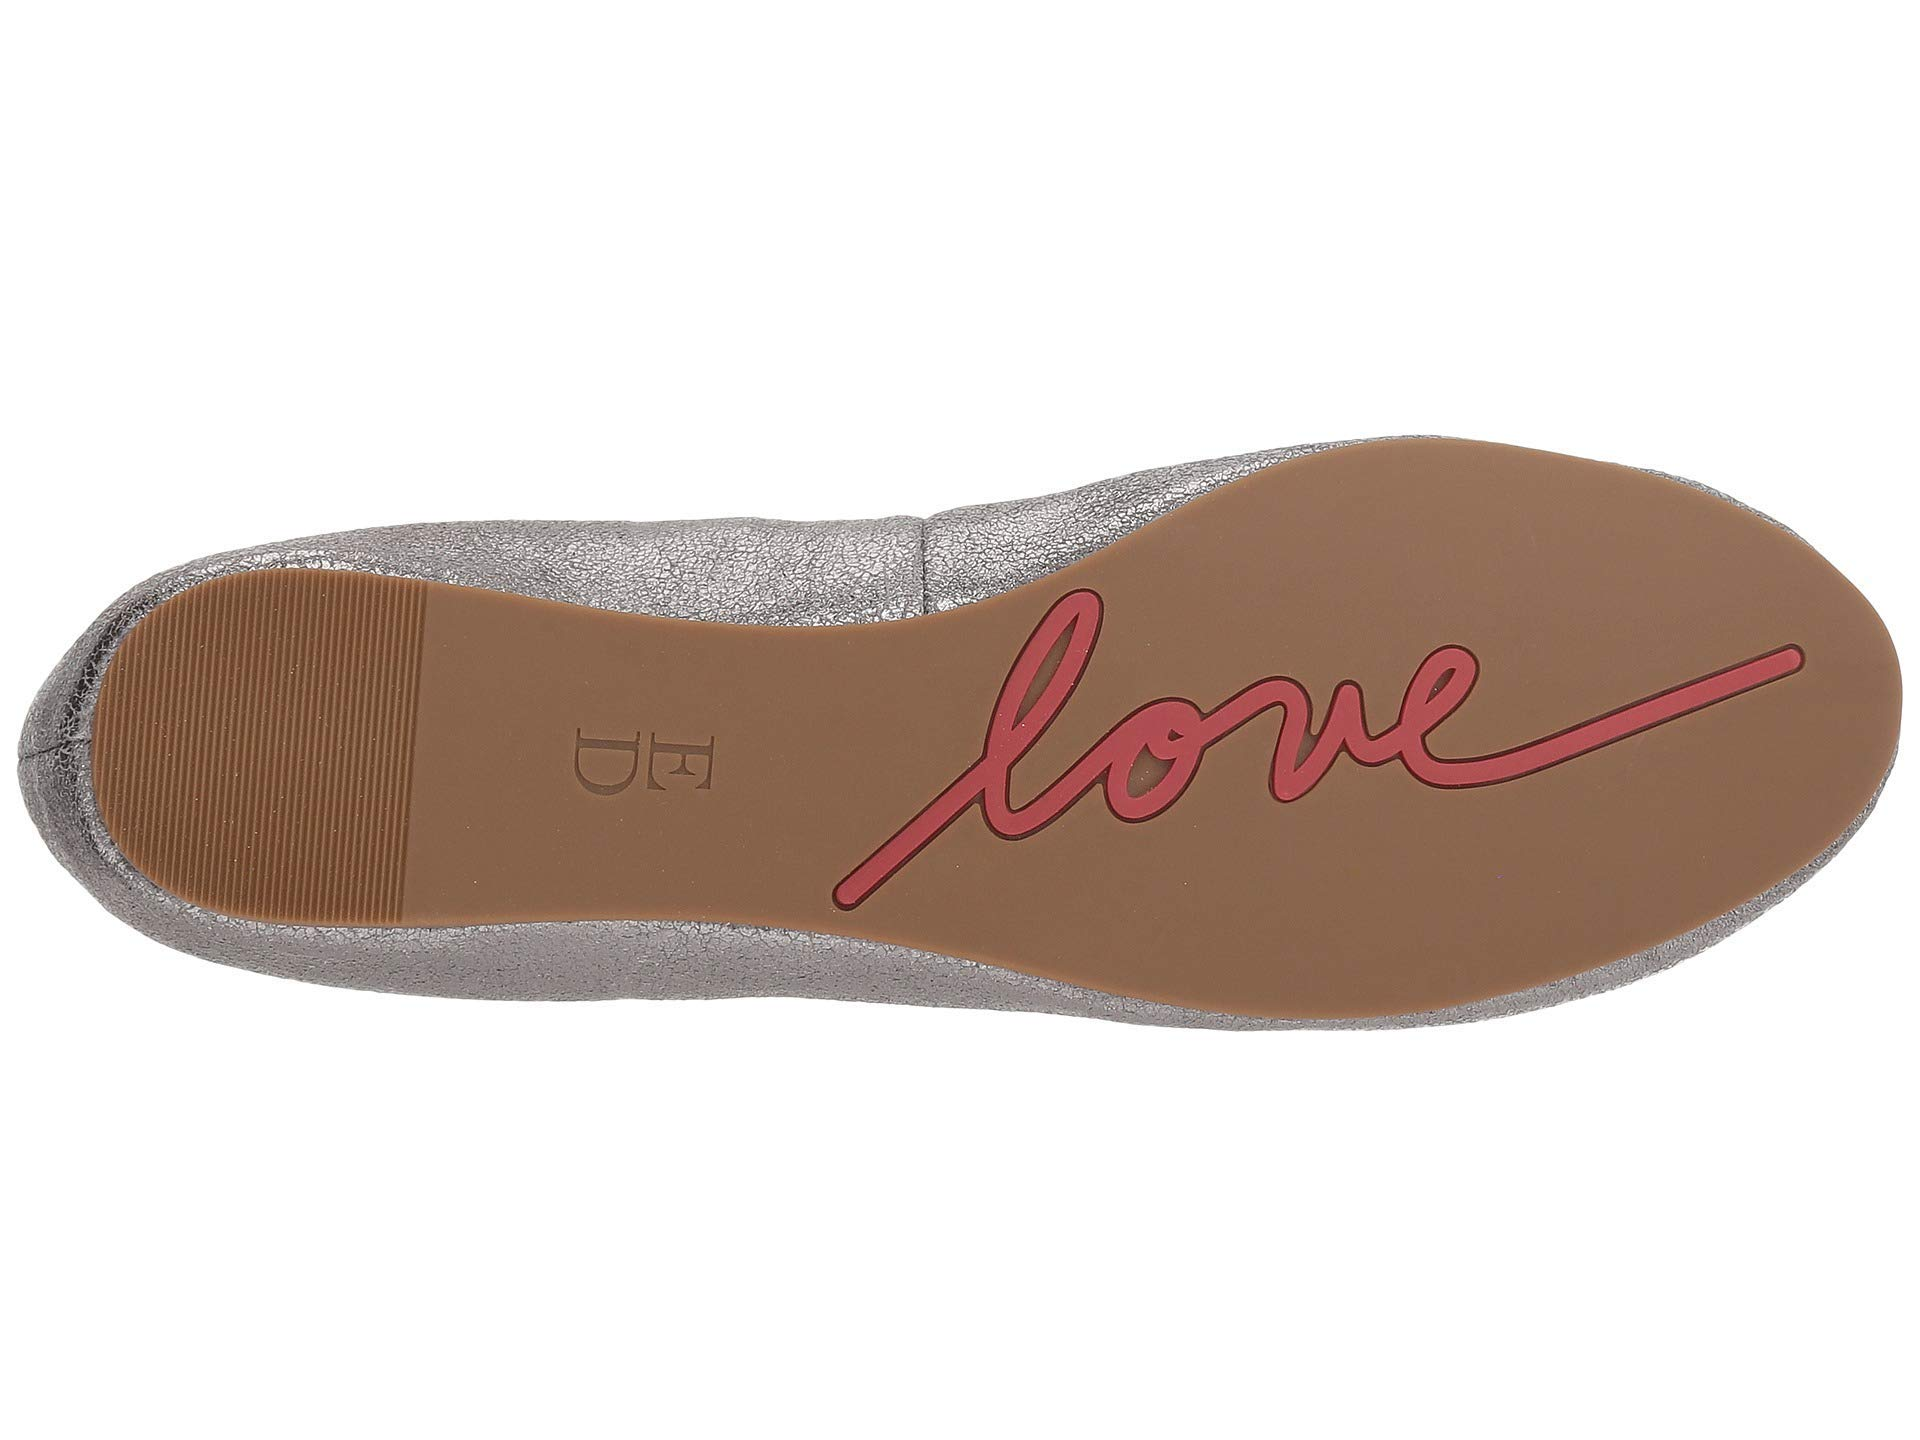line: (171, 638, 401, 862)
text: (996, 585, 1512, 970), (537, 678, 751, 897)
